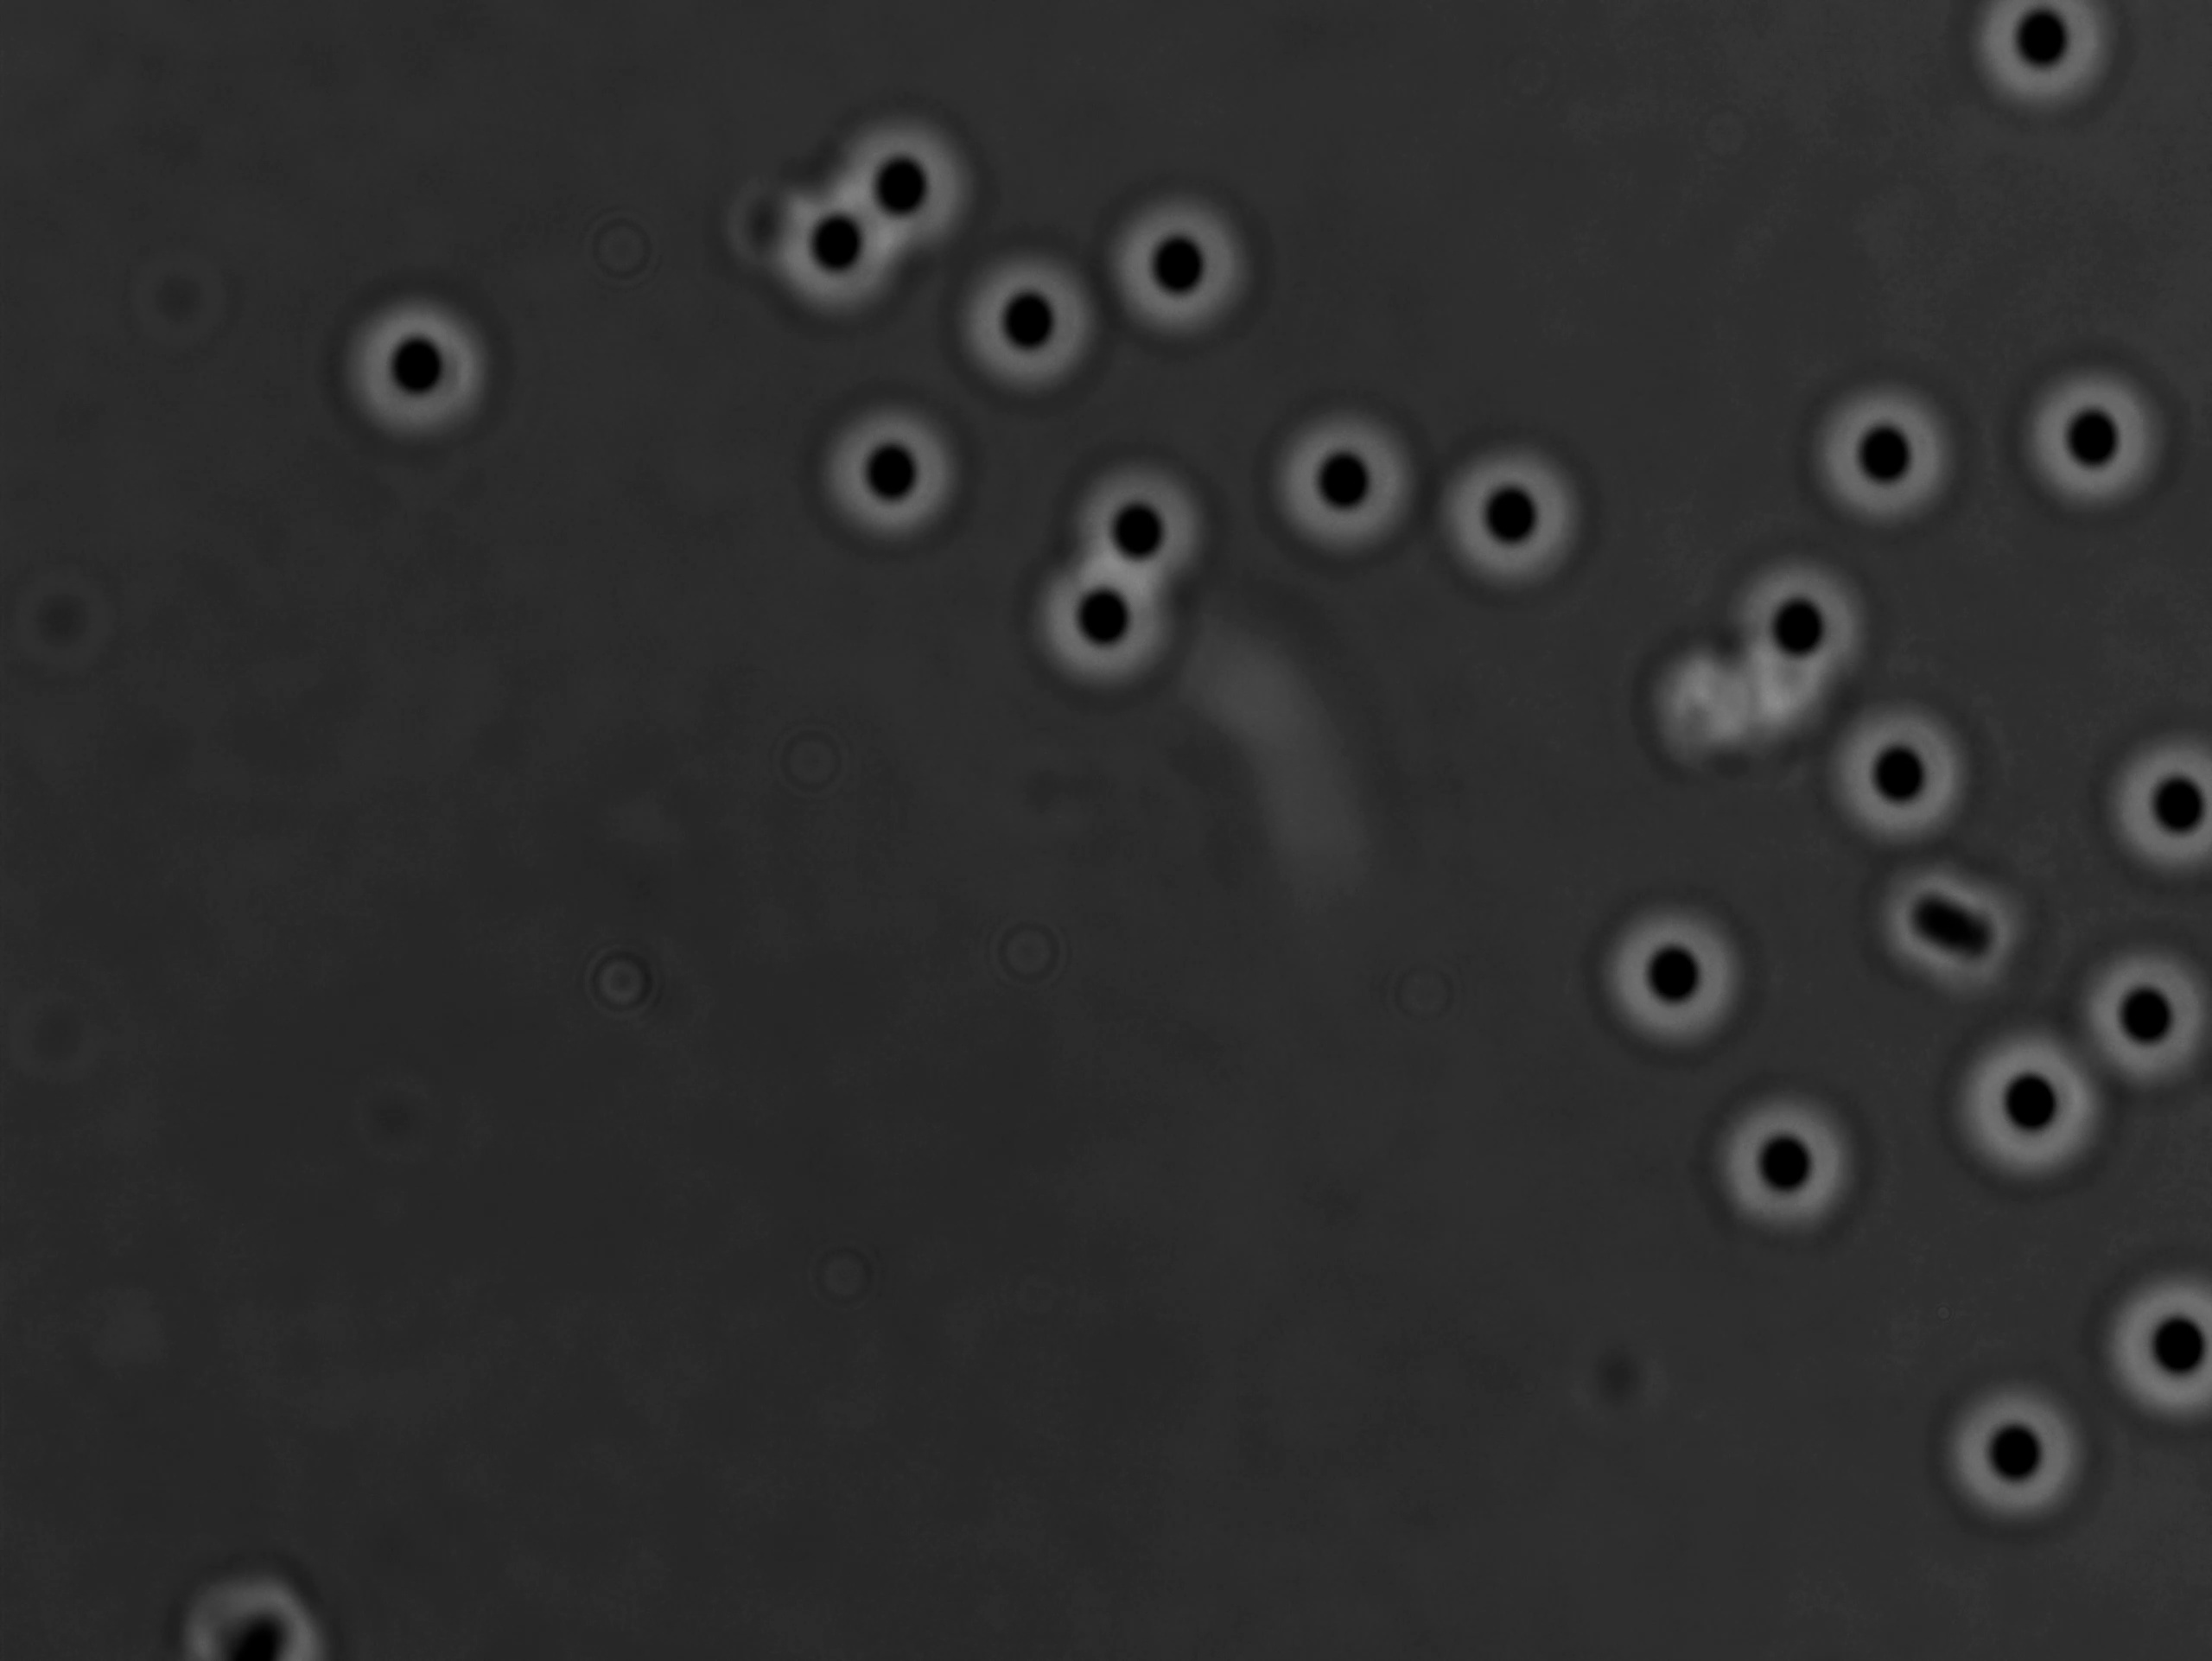depth:-40: (1935, 1017, 2118, 1186), (935, 243, 1118, 410), (1587, 879, 1758, 1056), (333, 291, 497, 473), (1792, 373, 1957, 550), (1818, 701, 1996, 865), (2004, 359, 2175, 529), (1931, 1380, 2106, 1546), (1434, 445, 1610, 609), (1265, 384, 1425, 562), (1692, 1099, 1867, 1261), (1111, 173, 1275, 344), (1724, 553, 1893, 717), (1010, 546, 1186, 700), (2060, 937, 2212, 1099), (1069, 443, 1218, 609), (802, 405, 963, 557), (2086, 733, 2212, 918), (771, 174, 919, 323), (2079, 1270, 2212, 1431), (839, 101, 982, 244)
